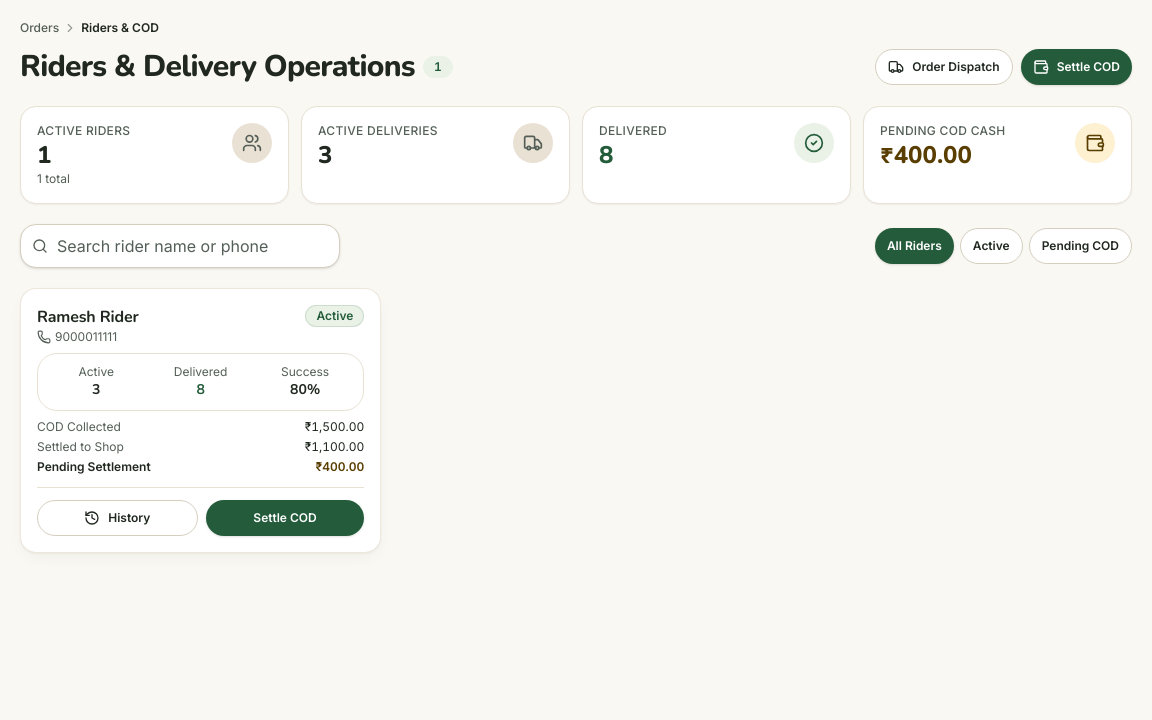
RiderOperationsPage › displays rider summary, COD settlement status, and loads rider delivery history
The width and height of the screenshot is (1152, 720).
Expected: the heading "Ramesh Rider" is shown, [37,304,138,328]
Expected: the text "80%" is shown, [290,380,320,398]
Click the button "History".
click(117, 518)  # box [37,500,198,536]
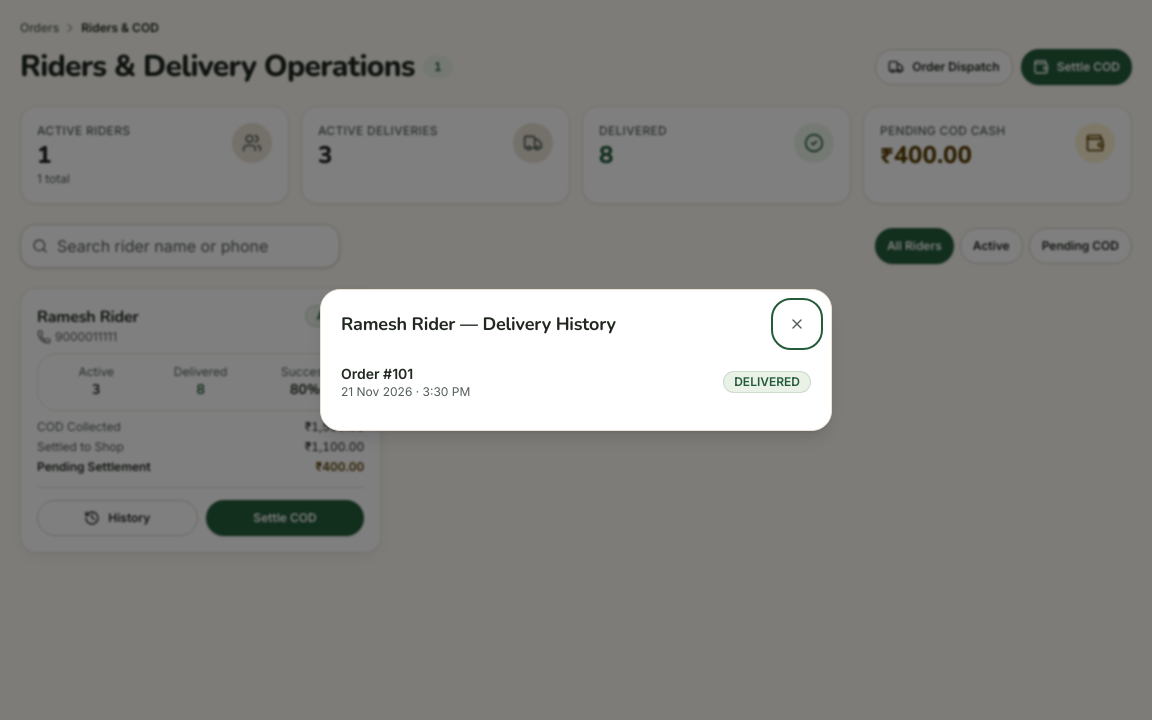
Expected: the text "Order #101" is shown, [341,365,413,382]
